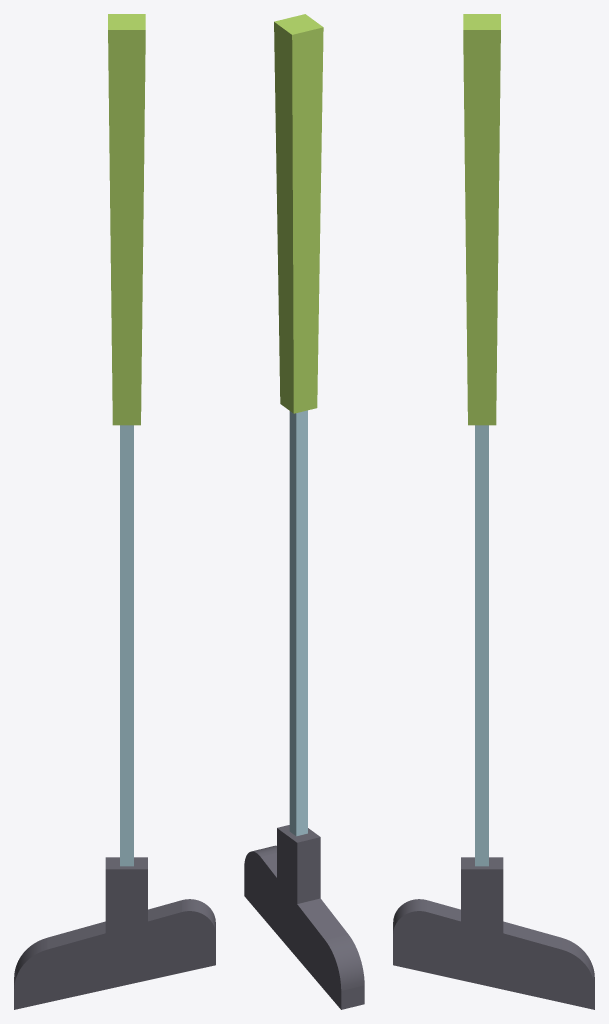
File: club_green.fbx
The picture shows the model from 3 angles, left to right: view 1: azimuth 90°, elevation 25°; view 2: azimuth 210°, elevation 25°; view 3: azimuth 270°, elevation 25°; orthographic projection. The views are drawn at different scales.
Parts seen in each view (by area): view 1: club_green; view 2: club_green; view 3: club_green.
Part boxes in pixels (x1=…): club_green: x1=14, y1=14, x2=215, y2=1009; club_green: x1=244, y1=14, x2=364, y2=1009; club_green: x1=393, y1=14, x2=594, y2=1009.
Size of the model in its own units: 0.3453 by 9.9 by 1.84.
